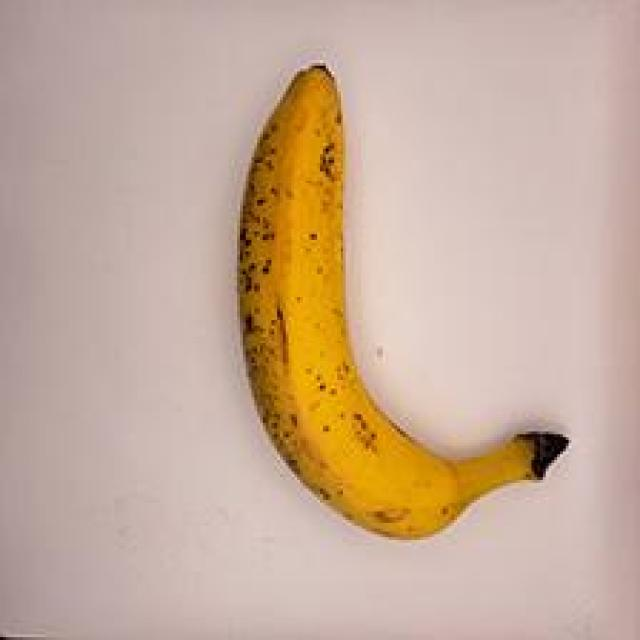Overripe: (195, 33, 596, 559)
